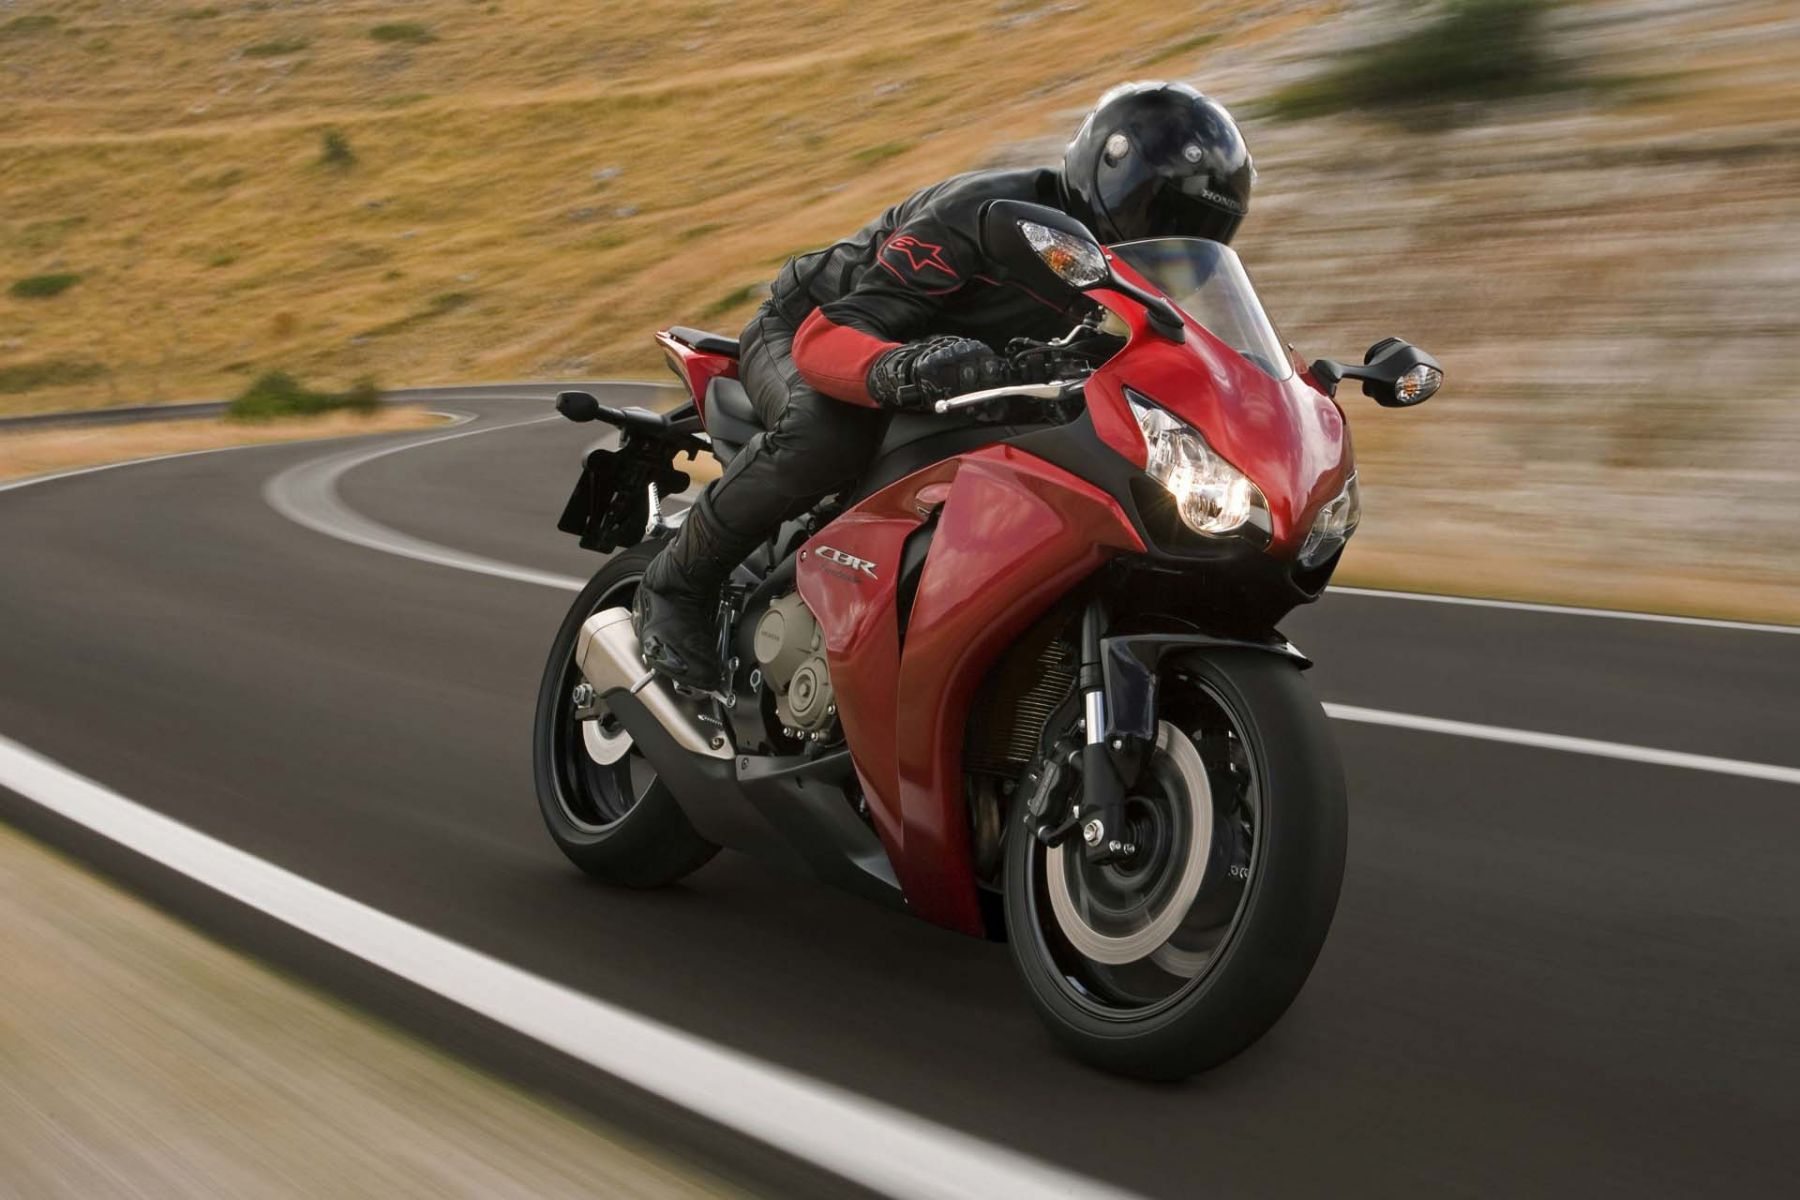bike: (542, 224, 1434, 1051)
